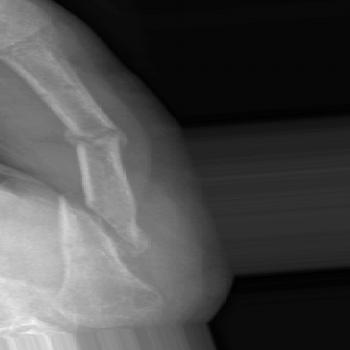Fracture: (59, 190, 152, 264), (49, 119, 137, 152)
